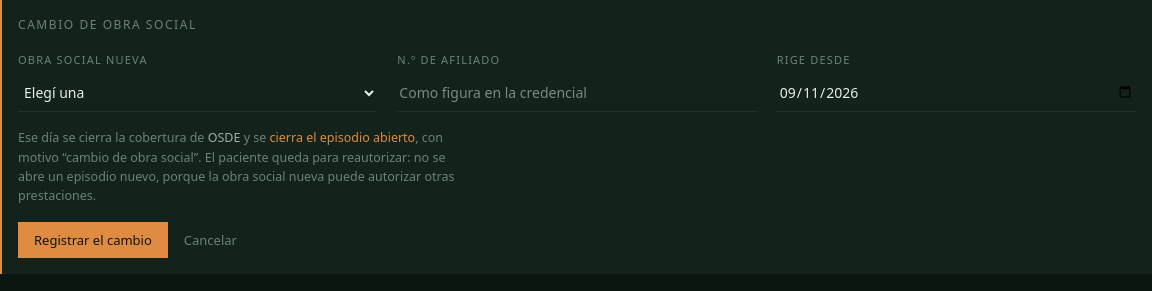
Test: change insurance provider › sends the trimmed member number and reports the derived queue
Select "Swiss Medical" in the dropdown labelled "Obra social nueva" at coordinates (198, 93), box [18,74,377,112]
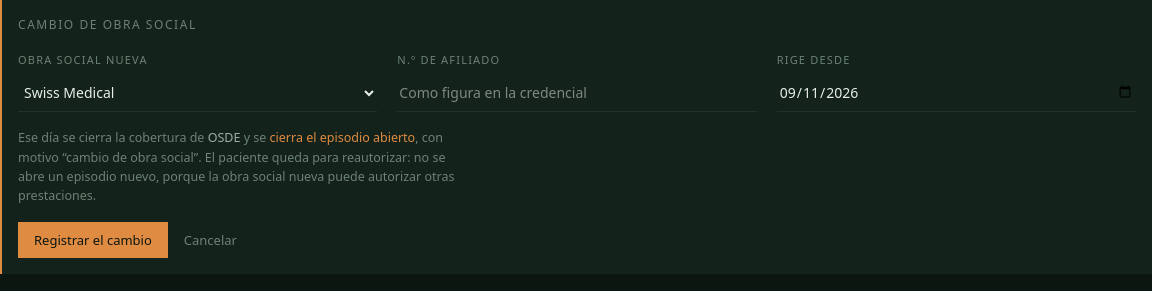
Type "  4400  " into the field labelled "N.º de afiliado" at coordinates (577, 93), box [397,74,757,112]
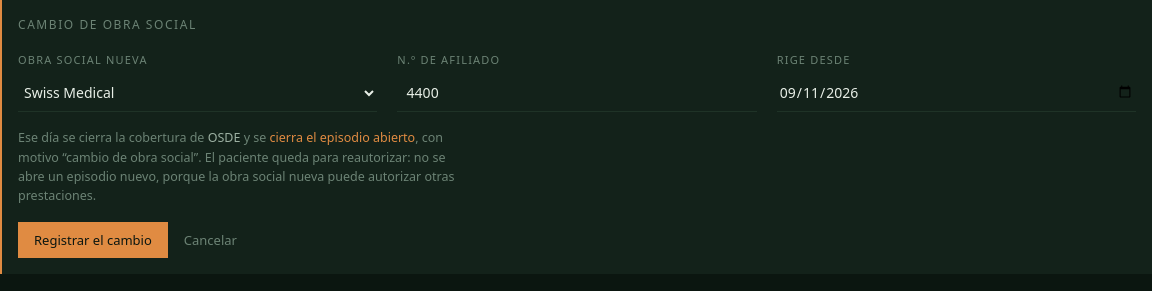
Click the button "Registrar el cambio" at coordinates (93, 240), box [18,222,168,258]
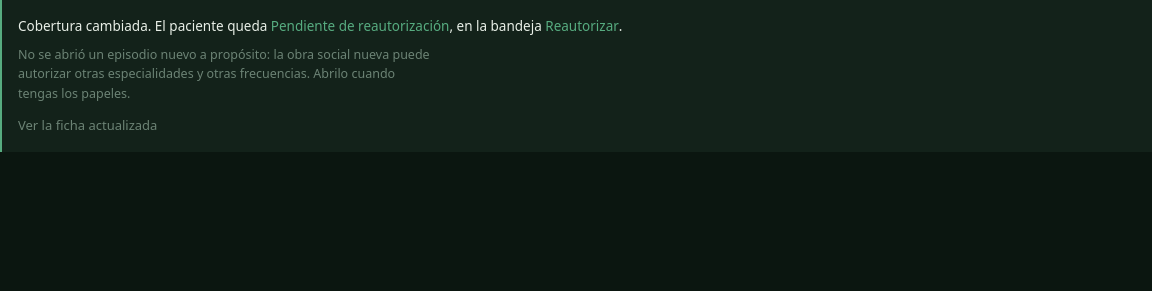
Check: the text "Reautorizar" is shown, box [545,17,619,35]
